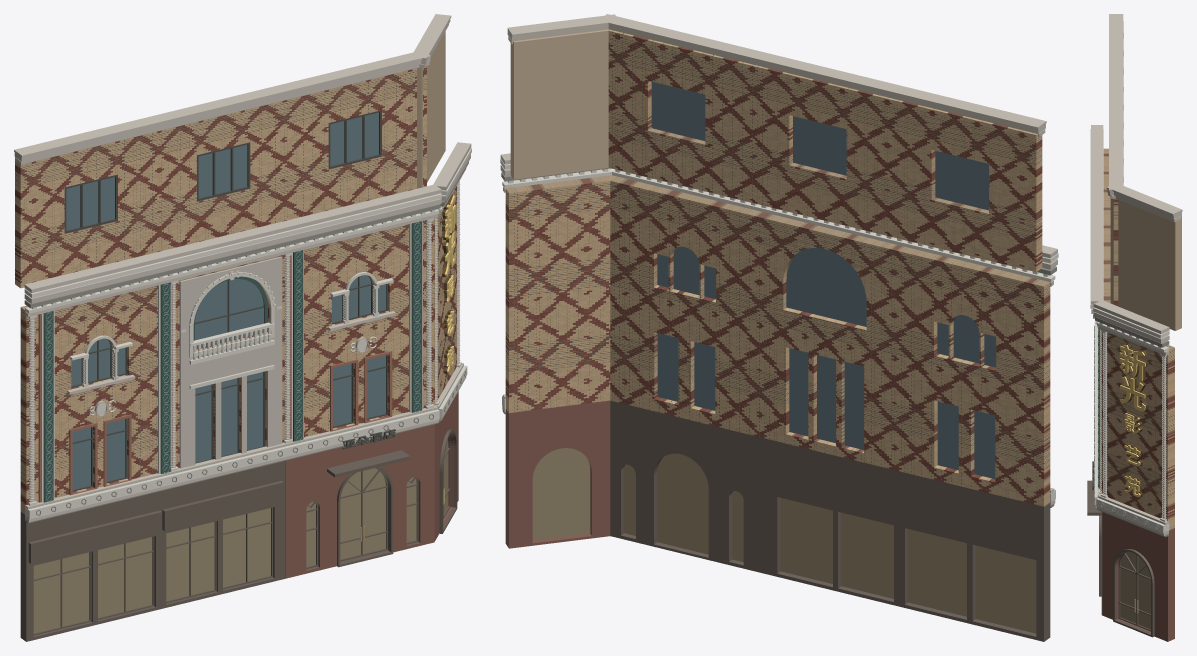
File: huangpu-strand-theatre-ningbo-front-raw.glb
The picture shows the model from 3 angles, left to right: view 1: azimuth 30°, elevation 25°; view 2: azimuth 150°, elevation 25°; view 3: azimuth 270°, elevation 25°; orthographic projection. The views are drawn at different scales.
Parts seen in each view (by area): view 1: 新光大戏院宁波路圆券与菱格砖立面; view 2: 新光大戏院宁波路圆券与菱格砖立面; view 3: 新光大戏院宁波路圆券与菱格砖立面.
Part boxes in pixels (<box>): 新光大戏院宁波路圆券与菱格砖立面: <box>14,14,471,641</box>; 新光大戏院宁波路圆券与菱格砖立面: <box>500,14,1058,641</box>; 新光大戏院宁波路圆券与菱格砖立面: <box>1087,14,1182,641</box>.
Size of the model in its own units: 24.47 by 23.56 by 4.79.
16 materials, 1 textured.
